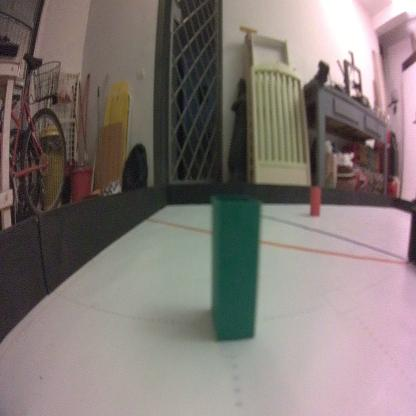green: (209, 189, 260, 347)
red: (309, 184, 322, 219)
